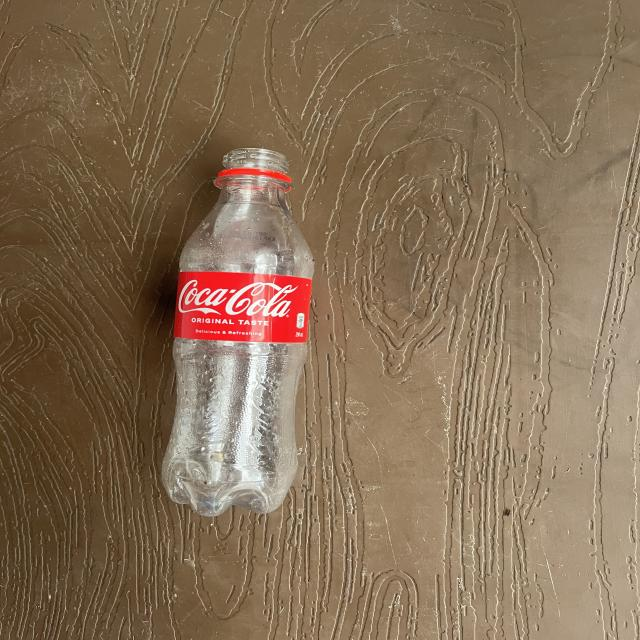REJECT: (146, 152, 337, 634)
